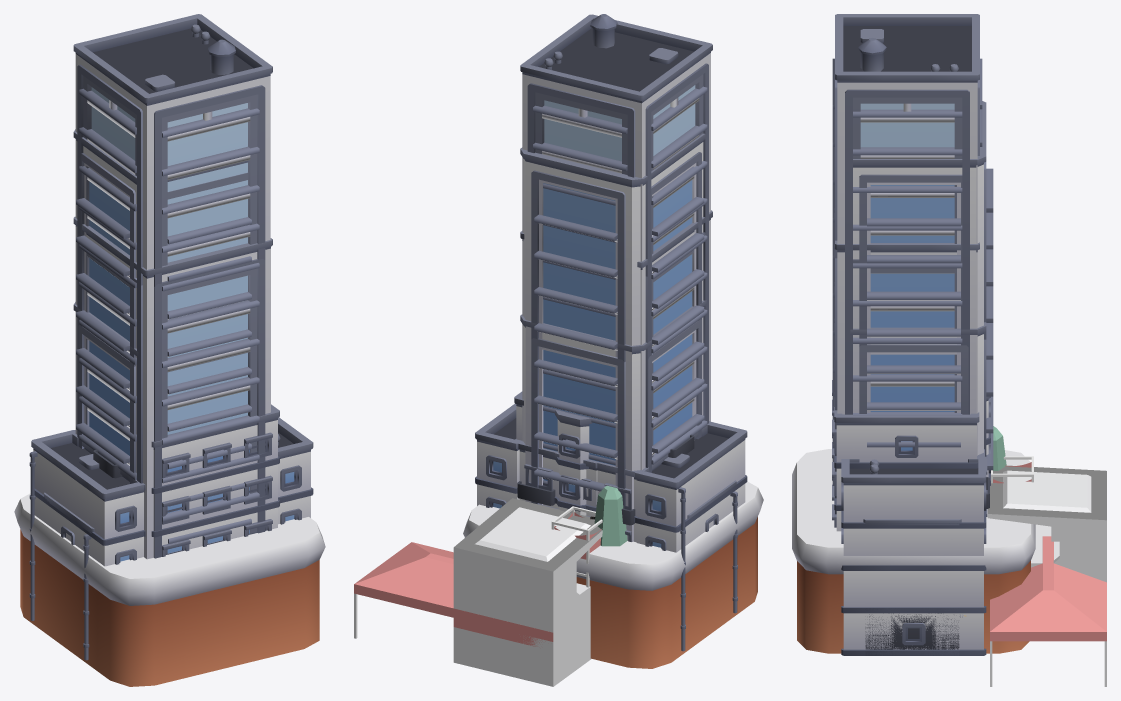
Rendered from kart-kit.glb.
3 views of the same model, side by side, from view 1: azimuth 30°, elevation 25°; view 2: azimuth 150°, elevation 25°; view 3: azimuth 270°, elevation 25° (orthographic). The views are drawn at different scales.
Visible parts, largest first — view 1: city-building-skyscraper-d:building-skyscraper-d, plat-block-snow-large:block-snow-large, city-building-skyscraper-c:building-skyscraper-c, city-building-skyscraper-b:building-skyscraper-b, city-building-j:building-j, city-building-l:building-l, city-building-skyscraper-a:building-skyscraper-a, city-building-k:building-k; view 2: city-building-skyscraper-b:building-skyscraper-b, city-building-skyscraper-d:building-skyscraper-d, plat-block-snow-large:block-snow-large, city-building-j:building-j, race-grandStandCovered:grandStandCovered(Clone), city-building-skyscraper-a:building-skyscraper-a, race-tentLong:tentLong(Clone), race-pitsGarage:pitsGarage(Clone), city-building-skyscraper-c:building-skyscraper-c, race-grandStand:grandStand(Clone), city-building-l:building-l, city-building-i:building-i (+4 smaller); view 3: city-building-skyscraper-d:building-skyscraper-d, city-building-j:building-j, city-building-skyscraper-b:building-skyscraper-b, plat-block-snow-large:block-snow-large, race-tentLong:tentLong(Clone), city-building-l:building-l, race-grandStandCovered:grandStandCovered(Clone), city-building-skyscraper-c:building-skyscraper-c, city-building-skyscraper-a:building-skyscraper-a, city-building-k:building-k, race-pitsGarage:pitsGarage(Clone), race-grandStand:grandStand(Clone).
Part boxes in pixels (x1,y1,x2,y2): city-building-skyscraper-d:building-skyscraper-d: (73, 14, 272, 521); plat-block-snow-large:block-snow-large: (14, 493, 325, 686); city-building-skyscraper-c:building-skyscraper-c: (73, 216, 272, 559); city-building-skyscraper-b:building-skyscraper-b: (73, 129, 251, 543); city-building-j:building-j: (29, 417, 313, 620); city-building-l:building-l: (93, 404, 279, 557); city-building-skyscraper-a:building-skyscraper-a: (73, 302, 251, 543); city-building-k:building-k: (44, 492, 94, 660); city-building-skyscraper-b:building-skyscraper-b: (520, 133, 705, 541); city-building-skyscraper-d:building-skyscraper-d: (520, 14, 712, 481); plat-block-snow-large:block-snow-large: (463, 481, 763, 668); city-building-j:building-j: (475, 403, 747, 651); race-grandStandCovered:grandStandCovered(Clone): (453, 498, 602, 593); city-building-skyscraper-a:building-skyscraper-a: (520, 300, 706, 541); race-tentLong:tentLong(Clone): (354, 542, 553, 686); race-pitsGarage:pitsGarage(Clone): (453, 583, 591, 686); city-building-skyscraper-c:building-skyscraper-c: (520, 210, 712, 483); race-grandStand:grandStand(Clone): (453, 569, 579, 678); city-building-l:building-l: (514, 391, 694, 515); city-building-i:building-i: (518, 421, 709, 542); city-building-skyscraper-d:building-skyscraper-d: (832, 14, 982, 485); city-building-j:building-j: (841, 456, 989, 655); city-building-skyscraper-b:building-skyscraper-b: (834, 101, 993, 447); plat-block-snow-large:block-snow-large: (792, 449, 1035, 653); race-tentLong:tentLong(Clone): (990, 536, 1106, 686); city-building-l:building-l: (832, 380, 990, 531); race-grandStandCovered:grandStandCovered(Clone): (987, 465, 1106, 562); city-building-skyscraper-c:building-skyscraper-c: (832, 240, 979, 514); city-building-skyscraper-a:building-skyscraper-a: (834, 322, 993, 470); city-building-k:building-k: (863, 519, 965, 655); race-pitsGarage:pitsGarage(Clone): (1031, 524, 1106, 582); race-grandStand:grandStand(Clone): (1054, 542, 1106, 563).
Bounding box in the file's own units: 2.69 × 5.52 × 2.69.
29 materials, 9 textured.
